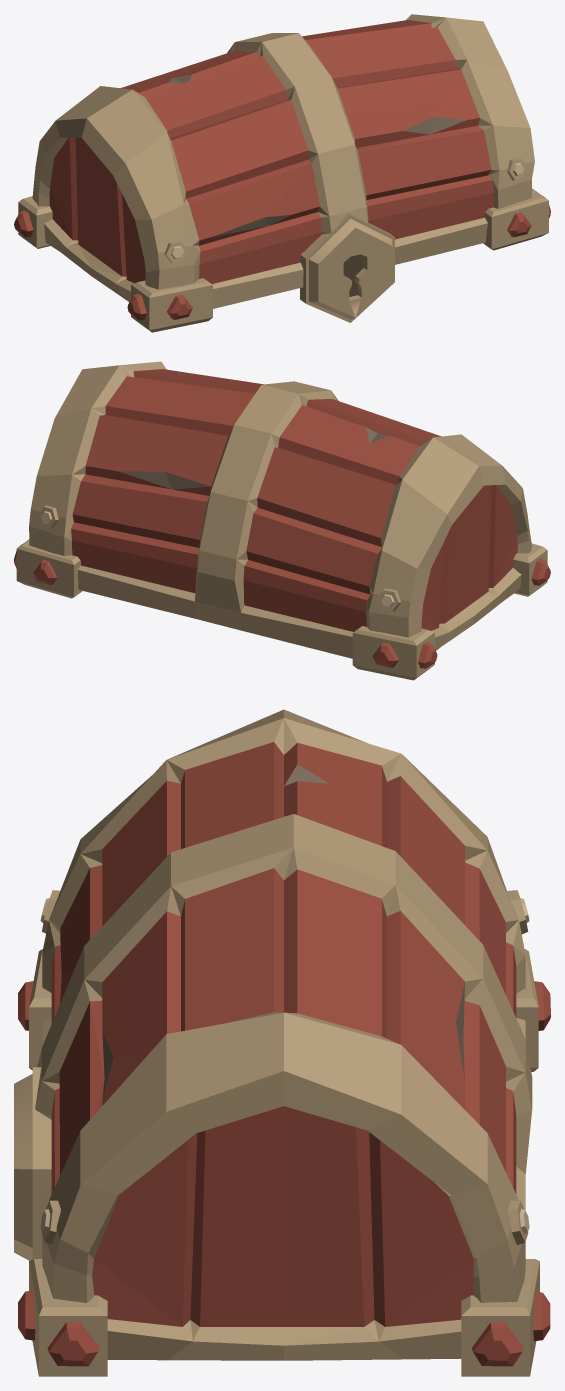
Rendered from SM_Prop_Chest_03_Lid.glb.
The picture shows the model from 3 angles, top to bottom: view 1: azimuth 30°, elevation 25°; view 2: azimuth 150°, elevation 25°; view 3: azimuth 270°, elevation 25°; orthographic projection. The views are drawn at different scales.
Parts seen in each view (by area): view 1: SM_Prop_Chest_03_Lid; view 2: SM_Prop_Chest_03_Lid; view 3: SM_Prop_Chest_03_Lid.
Part boxes in pixels (x1,y1,x2,y2): SM_Prop_Chest_03_Lid: (14,14,550,332); SM_Prop_Chest_03_Lid: (14,361,550,680); SM_Prop_Chest_03_Lid: (14,709,550,1376).
Size of the model in its own units: 0.0127 by 0.00685 by 0.0076.
Materials: 1 (1 with a texture image).
